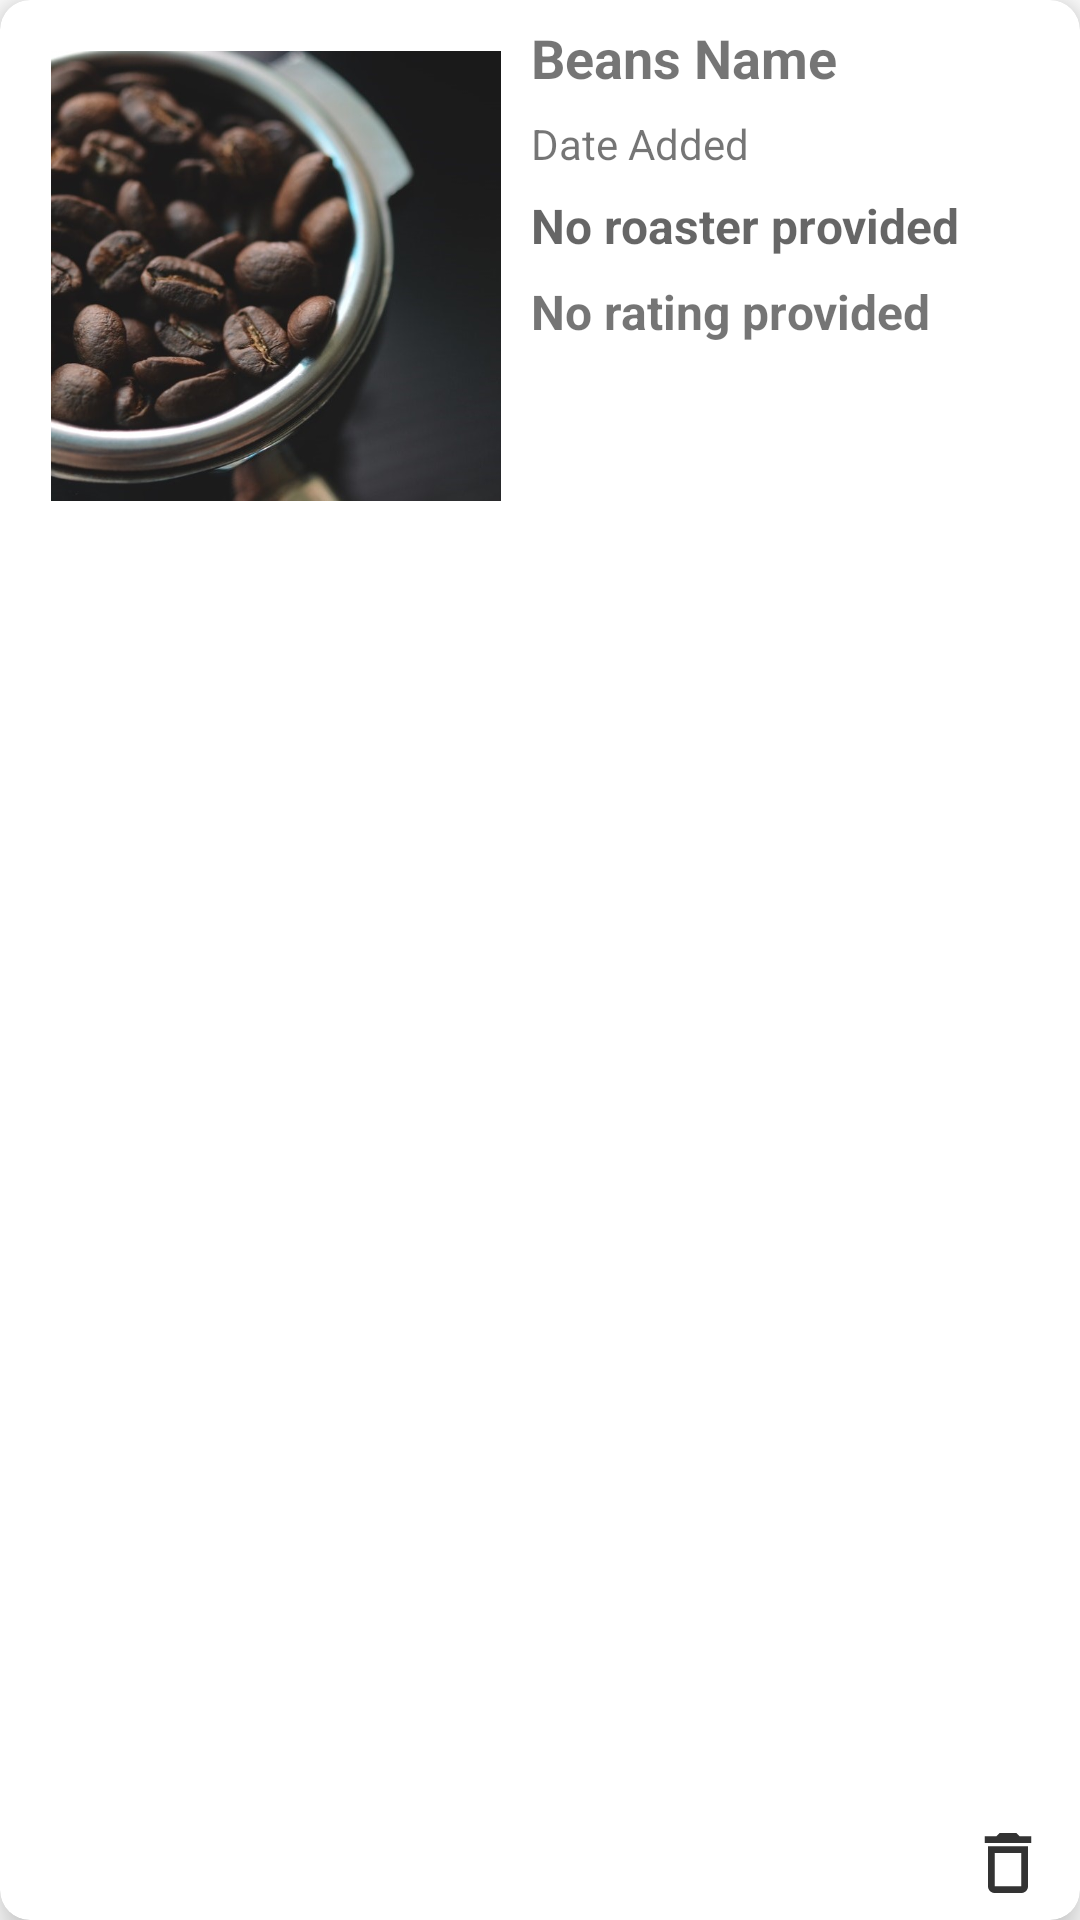

Screen size 1080px x 1920px. Icon name, then its center in pixels as (x,y):
delete beans: (1008,1863)
